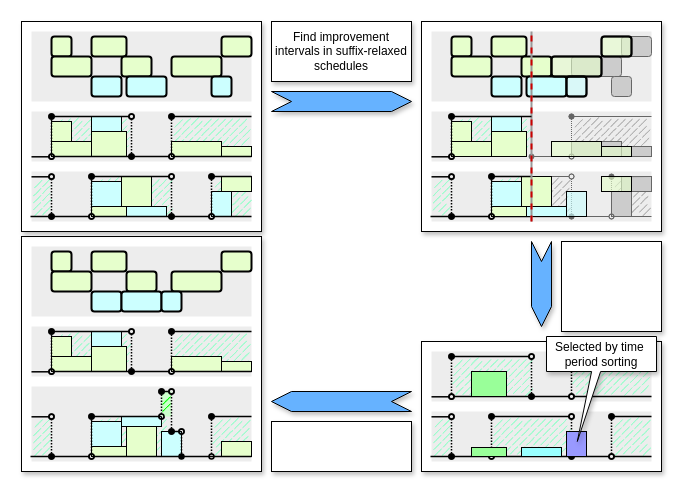
Image size: 685x496. Some labels were removed from this diagram. The centre of each missing label's shape, as x and y in pixels:
"Relax capacities during selected improvement intervals" belongs at [342,447].
"Select improvement intervals by selected sorting order" belongs at [612,287].
